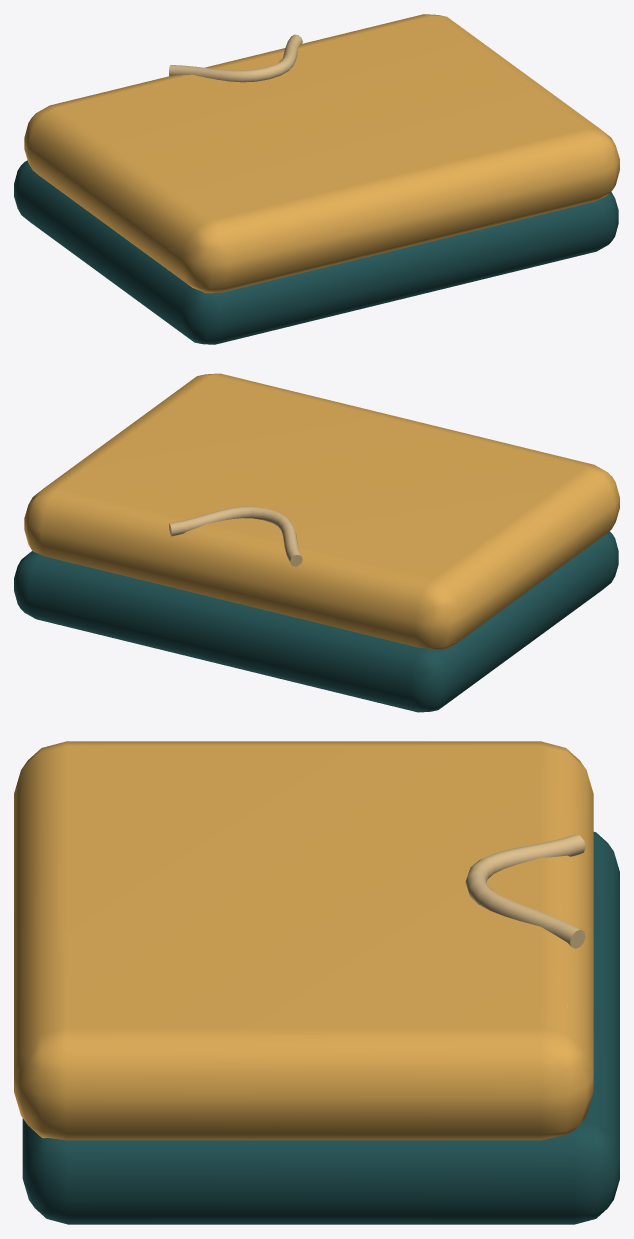
Rendered from Clothes.fbx.
The picture shows the model from 3 angles, top to bottom: view 1: azimuth 30°, elevation 25°; view 2: azimuth 150°, elevation 25°; view 3: azimuth 270°, elevation 25°; orthographic projection. The views are drawn at different scales.
Parts seen in each view (by area): view 1: Surface_KKTC_Ochre, Surface_KKTC_CanvasDeep, Surface_KKTC_Webbing; view 2: Surface_KKTC_Ochre, Surface_KKTC_CanvasDeep, Surface_KKTC_Webbing; view 3: Surface_KKTC_Ochre, Surface_KKTC_CanvasDeep, Surface_KKTC_Webbing.
Boxes of the visible parts, <box> form: Surface_KKTC_Ochre: <box>24,14,619,293</box>; Surface_KKTC_CanvasDeep: <box>14,160,618,344</box>; Surface_KKTC_Webbing: <box>169,34,302,82</box>; Surface_KKTC_Ochre: <box>24,373,619,649</box>; Surface_KKTC_CanvasDeep: <box>14,531,618,712</box>; Surface_KKTC_Webbing: <box>169,506,302,566</box>; Surface_KKTC_Ochre: <box>14,741,593,1140</box>; Surface_KKTC_CanvasDeep: <box>22,832,619,1224</box>; Surface_KKTC_Webbing: <box>465,834,585,948</box>.
Size of the model in its own units: 22 by 6.39 by 17.25.
